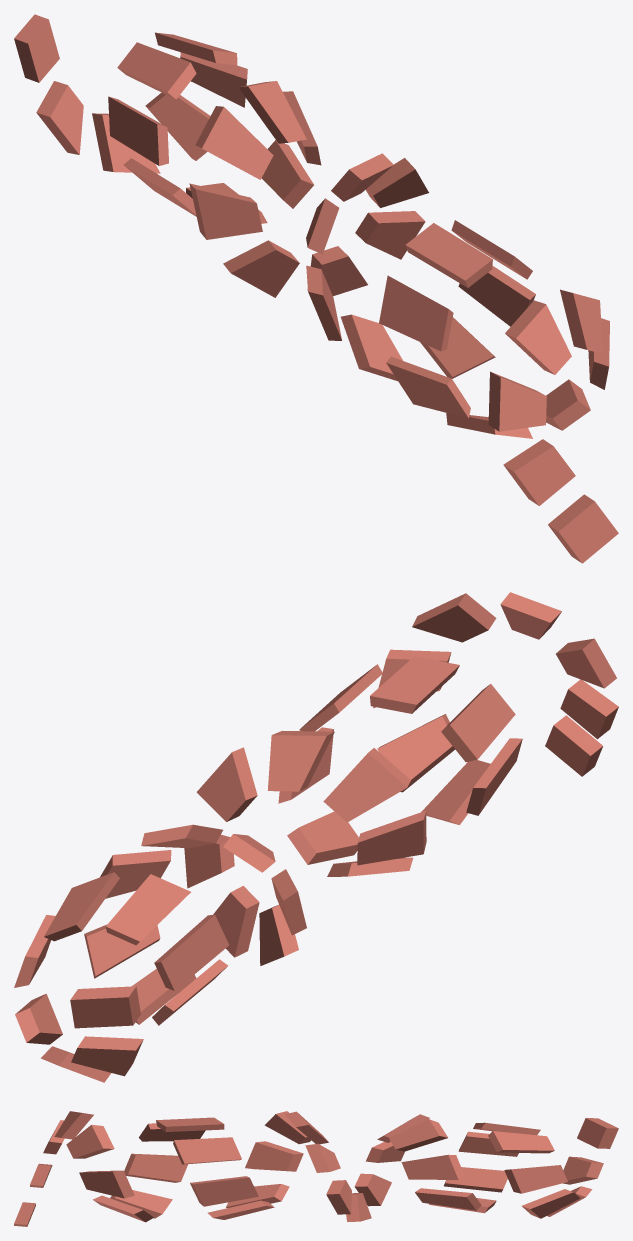
File: Thing.gltf
The picture shows the model from 3 angles, top to bottom: view 1: azimuth 30°, elevation 25°; view 2: azimuth 150°, elevation 25°; view 3: azimuth 270°, elevation 25°; orthographic projection. The views are drawn at different scales.
Parts seen in each view (by area): view 1: Cube; view 2: Cube; view 3: Cube.
Boxes of the visible parts, x1,y1,x2,y2 form: Cube: (14, 14, 618, 563); Cube: (14, 592, 618, 1082); Cube: (14, 1111, 618, 1226).
Size of the model in its own units: 6.12 by 7.12 by 32.48.
